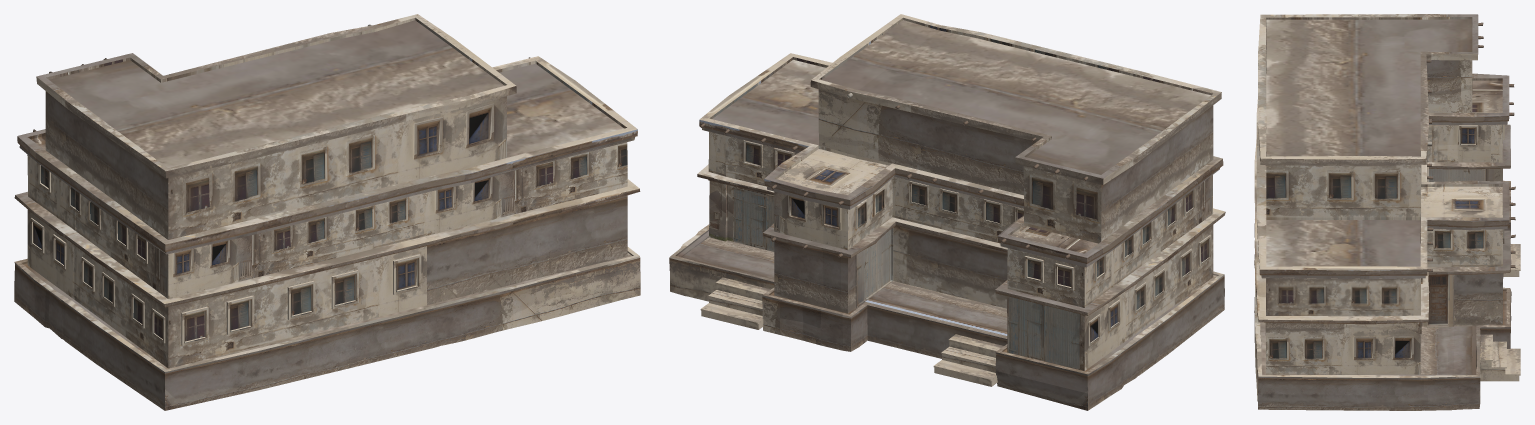
Rendered from low_poly_desert_builing.glb.
3 renders of one model, left to right at view 1: azimuth 30°, elevation 25°; view 2: azimuth 150°, elevation 25°; view 3: azimuth 270°, elevation 25°, orthographic. The views are drawn at different scales.
Visible parts, largest first — view 1: builing1; view 2: builing1; view 3: builing1.
Boxes of the visible parts, x1,y1,x2,y2 form: builing1: [14, 14, 640, 410]; builing1: [669, 14, 1225, 410]; builing1: [1254, 14, 1520, 410].
Size of the model in its own units: 34.71 by 16.47 by 19.7.
1 material, 1 textured.
